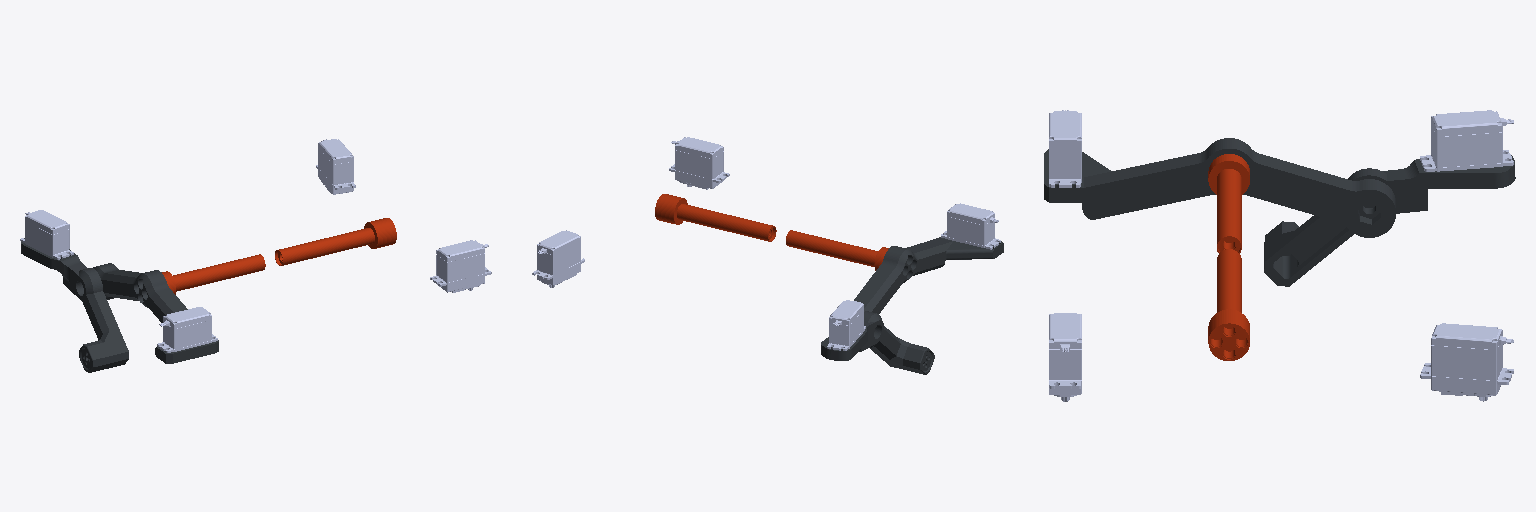
The robot description file, URDF, robot "perseverance":
<?xml version="1.0" ?>
<!-- Generated using onshape-to-robot -->
<!-- Onshape https://cad.onshape.com/documents/31ca51e87164d5a2ae3b11dc/w/1e07aa3f18f08d453ac8b6a1/e/be108145cc25fea61866c58d -->
<robot name="perseverance">
  <!-- Link base_link -->
  <link name="base_link">
    <inertial>
      <origin xyz="0.00132088 -0.0106351 0.0110544" rpy="0 0 0"/>
      <mass value="1.16655"/>
      <inertia ixx="0.00718086" ixy="-0.000191247" ixz="-9.44893e-06" iyy="0.00962338" iyz="0.000134967" izz="0.0161498"/>
    </inertial>
    <!-- Part rightbogie -->
    <visual>
      <origin xyz="-0.15 0.0418583 -0.00306575" rpy="0 -0 -1.5708"/>
      <geometry>
        <mesh filename="package://meshes/rightbogie.stl"/>
      </geometry>
      <material name="rightbogie_material">
        <color rgba="0.262745 0.282353 0.301961 1"/>
      </material>
    </visual>
    <collision>
      <origin xyz="-0.15 0.0418583 -0.00306575" rpy="0 -0 -1.5708"/>
      <geometry>
        <mesh filename="package://meshes/rightbogie.stl"/>
      </geometry>
    </collision>
    <!-- Part bevel_0_85m_18t_45deg -->
    <visual>
      <origin xyz="-0.012226 -0.042 0.024" rpy="-0 1.5708 0"/>
      <geometry>
        <mesh filename="package://meshes/bevel_0_85m_18t_45deg.stl"/>
      </geometry>
      <material name="bevel_0_85m_18t_45deg_material">
        <color rgba="0.729412 0.25098 0.105882 1"/>
      </material>
    </visual>
    <collision>
      <origin xyz="-0.012226 -0.042 0.024" rpy="-0 1.5708 0"/>
      <geometry>
        <mesh filename="package://meshes/bevel_0_85m_18t_45deg.stl"/>
      </geometry>
    </collision>
    <!-- Part base_link -->
    <visual>
      <origin xyz="0 0 0" rpy="0 -0 0"/>
      <geometry>
        <mesh filename="package://meshes/base_link.stl"/>
      </geometry>
      <material name="base_link_material">
        <color rgba="0.811765 0.858824 0.898039 1"/>
      </material>
    </visual>
    <collision>
      <origin xyz="0 0 0" rpy="0 -0 0"/>
      <geometry>
        <mesh filename="package://meshes/base_link.stl"/>
      </geometry>
    </collision>
    <!-- Part bevel_0_85m_18t_45deg_2 -->
    <visual>
      <origin xyz="0.012226 -0.042 0.024" rpy="-1.3494e-79 -1.5708 0"/>
      <geometry>
        <mesh filename="package://meshes/bevel_0_85m_18t_45deg.stl"/>
      </geometry>
      <material name="bevel_0_85m_18t_45deg_2_material">
        <color rgba="0.729412 0.25098 0.105882 1"/>
      </material>
    </visual>
    <collision>
      <origin xyz="0.012226 -0.042 0.024" rpy="-1.3494e-79 -1.5708 0"/>
      <geometry>
        <mesh filename="package://meshes/bevel_0_85m_18t_45deg.stl"/>
      </geometry>
    </collision>
    <!-- Part mg995 -->
    <visual>
      <origin xyz="-0.1425 -0.140031 0.043" rpy="3.14159 -0 -3.14159"/>
      <geometry>
        <mesh filename="package://meshes/mg995.stl"/>
      </geometry>
      <material name="mg995_material">
        <color rgba="0.792157 0.819608 0.933333 1"/>
      </material>
    </visual>
    <collision>
      <origin xyz="-0.1425 -0.140031 0.043" rpy="3.14159 -0 -3.14159"/>
      <geometry>
        <mesh filename="package://meshes/mg995.stl"/>
      </geometry>
    </collision>
    <!-- Part mg995_2 -->
    <visual>
      <origin xyz="-0.150764 0.100122 0.0432278" rpy="3.14159 -0 1.74533"/>
      <geometry>
        <mesh filename="package://meshes/mg995.stl"/>
      </geometry>
      <material name="mg995_2_material">
        <color rgba="0.792157 0.819608 0.933333 1"/>
      </material>
    </visual>
    <collision>
      <origin xyz="-0.150764 0.100122 0.0432278" rpy="3.14159 -0 1.74533"/>
      <geometry>
        <mesh filename="package://meshes/mg995.stl"/>
      </geometry>
    </collision>
    <!-- Part mg995_3 -->
    <visual>
      <origin xyz="0.1425 -0.140031 0.043" rpy="3.14159 -0 -2.01228e-16"/>
      <geometry>
        <mesh filename="package://meshes/mg995.stl"/>
      </geometry>
      <material name="mg995_3_material">
        <color rgba="0.792157 0.819608 0.933333 1"/>
      </material>
    </visual>
    <collision>
      <origin xyz="0.1425 -0.140031 0.043" rpy="3.14159 -0 -2.01228e-16"/>
      <geometry>
        <mesh filename="package://meshes/mg995.stl"/>
      </geometry>
    </collision>
    <!-- Part leftrocker -->
    <visual>
      <origin xyz="0.115 -0.042 0.024" rpy="0 -0 -1.5708"/>
      <geometry>
        <mesh filename="package://meshes/leftrocker.stl"/>
      </geometry>
      <material name="leftrocker_material">
        <color rgba="0.262745 0.282353 0.301961 1"/>
      </material>
    </visual>
    <collision>
      <origin xyz="0.115 -0.042 0.024" rpy="0 -0 -1.5708"/>
      <geometry>
        <mesh filename="package://meshes/leftrocker.stl"/>
      </geometry>
    </collision>
    <!-- Part rightrocker -->
    <visual>
      <origin xyz="-0.115 -0.042 0.024" rpy="0 -0 -1.5708"/>
      <geometry>
        <mesh filename="package://meshes/rightrocker.stl"/>
      </geometry>
      <material name="rightrocker_material">
        <color rgba="0.262745 0.282353 0.301961 1"/>
      </material>
    </visual>
    <collision>
      <origin xyz="-0.115 -0.042 0.024" rpy="0 -0 -1.5708"/>
      <geometry>
        <mesh filename="package://meshes/rightrocker.stl"/>
      </geometry>
    </collision>
    <!-- Part mg995_4 -->
    <visual>
      <origin xyz="0.150764 0.100122 0.0432278" rpy="3.14159 -0 1.39626"/>
      <geometry>
        <mesh filename="package://meshes/mg995.stl"/>
      </geometry>
      <material name="mg995_4_material">
        <color rgba="0.792157 0.819608 0.933333 1"/>
      </material>
    </visual>
    <collision>
      <origin xyz="0.150764 0.100122 0.0432278" rpy="3.14159 -0 1.39626"/>
      <geometry>
        <mesh filename="package://meshes/mg995.stl"/>
      </geometry>
    </collision>
    <!-- Part leftbogie -->
    <visual>
      <origin xyz="0.15 0.0418583 -0.00306575" rpy="0 -0 -1.5708"/>
      <geometry>
        <mesh filename="package://meshes/leftbogie.stl"/>
      </geometry>
      <material name="leftbogie_material">
        <color rgba="0.262745 0.282353 0.301961 1"/>
      </material>
    </visual>
    <collision>
      <origin xyz="0.15 0.0418583 -0.00306575" rpy="0 -0 -1.5708"/>
      <geometry>
        <mesh filename="package://meshes/leftbogie.stl"/>
      </geometry>
    </collision>
  </link>
  <!-- Link rearsteeringarm -->
  <link name="rearsteeringarm">
    <inertial>
      <origin xyz="0.0162576 1.99588e-09 -0.0222692" rpy="0 0 0"/>
      <mass value="0.0309807"/>
      <inertia ixx="1.46169e-05" ixy="-1.34476e-13" ixz="1.19558e-06" iyy="1.75736e-05" iyz="1.92805e-12" izz="5.44298e-06"/>
    </inertial>
    <!-- Part rearsteeringarm -->
    <visual>
      <origin xyz="2.77556e-17 2.77556e-17 -0.005" rpy="9.24446e-33 -2.82529e-32 -4.77087e-18"/>
      <geometry>
        <mesh filename="package://meshes/rearsteeringarm.stl"/>
      </geometry>
      <material name="rearsteeringarm_material">
        <color rgba="0.458824 0.105882 0 1"/>
      </material>
    </visual>
    <collision>
      <origin xyz="2.77556e-17 2.77556e-17 -0.005" rpy="9.24446e-33 -2.82529e-32 -4.77087e-18"/>
      <geometry>
        <mesh filename="package://meshes/rearsteeringarm.stl"/>
      </geometry>
    </collision>
  </link>
  <!-- Link wheelhub -->
  <link name="wheelhub">
    <inertial>
      <origin xyz="-3.19312e-19 3.11997e-18 0.00460287" rpy="0 0 0"/>
      <mass value="0.0820664"/>
      <inertia ixx="3.08808e-05" ixy="-3.64091e-55" ixz="-1.42616e-21" iyy="3.08808e-05" iyz="1.12352e-54" izz="5.62507e-05"/>
    </inertial>
    <!-- Part wheelhub -->
    <visual>
      <origin xyz="0 0 -0.005" rpy="-1.5708 1.35456e-17 3.31859e-65"/>
      <geometry>
        <mesh filename="package://meshes/wheelhub.stl"/>
      </geometry>
      <material name="wheelhub_material">
        <color rgba="0.498039 0.498039 0.498039 1"/>
      </material>
    </visual>
    <collision>
      <origin xyz="0 0 -0.005" rpy="-1.5708 1.35456e-17 3.31859e-65"/>
      <geometry>
        <mesh filename="package://meshes/wheelhub.stl"/>
      </geometry>
    </collision>
  </link>
  <!-- Joint from rearsteeringarm to wheelhub -->
  <joint name="bl_wheel" type="continuous">
    <origin xyz="-0.005 -5.55112e-17 -0.0463814" rpy="-1.5708 1.249e-16 -1.5708"/>
    <parent link="rearsteeringarm"/>
    <child link="wheelhub"/>
    <axis xyz="0 0 1"/>
    <limit effort="10" velocity="10"/>
  </joint>
  <!-- Joint from base_link to rearsteeringarm -->
  <joint name="bl_steering" type="revolute">
    <origin xyz="0.1525 0.10997 -0.00127218" rpy="-1.249e-16 4.18641e-16 2.96706"/>
    <parent link="base_link"/>
    <child link="rearsteeringarm"/>
    <axis xyz="0 0 1"/>
    <limit effort="10" velocity="10" lower="-0.610865" upper="0.610865"/>
  </joint>
  <!-- Link rearsteeringarm_2 -->
  <link name="rearsteeringarm_2">
    <inertial>
      <origin xyz="0.0162576 1.99588e-09 -0.0222692" rpy="0 0 0"/>
      <mass value="0.0309807"/>
      <inertia ixx="1.46169e-05" ixy="-1.34476e-13" ixz="1.19558e-06" iyy="1.75736e-05" iyz="1.92805e-12" izz="5.44298e-06"/>
    </inertial>
    <!-- Part rearsteeringarm_2 -->
    <visual>
      <origin xyz="2.77556e-17 2.77556e-17 -0.005" rpy="-8.84344e-75 -0 -7.75341e-18"/>
      <geometry>
        <mesh filename="package://meshes/rearsteeringarm.stl"/>
      </geometry>
      <material name="rearsteeringarm_2_material">
        <color rgba="0.458824 0.105882 0 1"/>
      </material>
    </visual>
    <collision>
      <origin xyz="2.77556e-17 2.77556e-17 -0.005" rpy="-8.84344e-75 -0 -7.75341e-18"/>
      <geometry>
        <mesh filename="package://meshes/rearsteeringarm.stl"/>
      </geometry>
    </collision>
  </link>
  <!-- Link wheelhub_2 -->
  <link name="wheelhub_2">
    <inertial>
      <origin xyz="2.74897e-17 3.11997e-18 0.00460287" rpy="0 0 0"/>
      <mass value="0.0820664"/>
      <inertia ixx="3.08808e-05" ixy="3.5356e-93" ixz="-7.5456e-22" iyy="3.08808e-05" iyz="5.5184e-80" izz="5.62507e-05"/>
    </inertial>
    <!-- Part wheelhub_2 -->
    <visual>
      <origin xyz="2.77556e-17 0 -0.005" rpy="-1.5708 1.93111e-18 9.91647e-75"/>
      <geometry>
        <mesh filename="package://meshes/wheelhub.stl"/>
      </geometry>
      <material name="wheelhub_2_material">
        <color rgba="0.498039 0.498039 0.498039 1"/>
      </material>
    </visual>
    <collision>
      <origin xyz="2.77556e-17 0 -0.005" rpy="-1.5708 1.93111e-18 9.91647e-75"/>
      <geometry>
        <mesh filename="package://meshes/wheelhub.stl"/>
      </geometry>
    </collision>
  </link>
  <!-- Joint from rearsteeringarm_2 to wheelhub_2 -->
  <joint name="br_wheel" type="continuous">
    <origin xyz="-0.005 5.55112e-17 -0.0463814" rpy="1.5708 -0 1.5708"/>
    <parent link="rearsteeringarm_2"/>
    <child link="wheelhub_2"/>
    <axis xyz="0 0 1"/>
    <limit effort="10" velocity="10"/>
  </joint>
  <!-- Joint from base_link to rearsteeringarm_2 -->
  <joint name="br_steering" type="revolute">
    <origin xyz="-0.1525 0.10997 -0.00127218" rpy="4.22436e-59 -1.37735e-59 0.174533"/>
    <parent link="base_link"/>
    <child link="rearsteeringarm_2"/>
    <axis xyz="0 0 1"/>
    <limit effort="10" velocity="10" lower="-0.610865" upper="0.610865"/>
  </joint>
  <!-- Link frontsteeringarm -->
  <link name="frontsteeringarm">
    <inertial>
      <origin xyz="0.0160954 1.24761e-09 -0.0207225" rpy="0 0 0"/>
      <mass value="0.0305721"/>
      <inertia ixx="1.28485e-05" ixy="-1.54012e-13" ixz="1.11198e-06" iyy="1.57606e-05" iyz="1.84212e-12" izz="5.35874e-06"/>
    </inertial>
    <!-- Part frontsteeringarm -->
    <visual>
      <origin xyz="0 0 -0.005" rpy="0 -0 9.24446e-33"/>
      <geometry>
        <mesh filename="package://meshes/frontsteeringarm.stl"/>
      </geometry>
      <material name="frontsteeringarm_material">
        <color rgba="0.458824 0.105882 0 1"/>
      </material>
    </visual>
    <collision>
      <origin xyz="0 0 -0.005" rpy="0 -0 9.24446e-33"/>
      <geometry>
        <mesh filename="package://meshes/frontsteeringarm.stl"/>
      </geometry>
    </collision>
  </link>
  <!-- Link wheelhub_3 -->
  <link name="wheelhub_3">
    <inertial>
      <origin xyz="-1.47254e-19 3.11997e-18 0.00460287" rpy="0 0 0"/>
      <mass value="0.0820664"/>
      <inertia ixx="3.08808e-05" ixy="0" ixz="-5.47239e-37" iyy="3.08808e-05" iyz="0" izz="5.62507e-05"/>
    </inertial>
    <!-- Part wheelhub_3 -->
    <visual>
      <origin xyz="0 0 -0.005" rpy="-1.5708 -2.15704e-32 0"/>
      <geometry>
        <mesh filename="package://meshes/wheelhub.stl"/>
      </geometry>
      <material name="wheelhub_3_material">
        <color rgba="0.498039 0.498039 0.498039 1"/>
      </material>
    </visual>
    <collision>
      <origin xyz="0 0 -0.005" rpy="-1.5708 -2.15704e-32 0"/>
      <geometry>
        <mesh filename="package://meshes/wheelhub.stl"/>
      </geometry>
    </collision>
  </link>
  <!-- Joint from frontsteeringarm to wheelhub_3 -->
  <joint name="fl_wheel" type="continuous">
    <origin xyz="-0.005 -2.77556e-17 -0.0433189" rpy="-1.5708 -0 -1.5708"/>
    <parent link="frontsteeringarm"/>
    <child link="wheelhub_3"/>
    <axis xyz="0 0 1"/>
    <limit effort="10" velocity="10"/>
  </joint>
  <!-- Joint from base_link to frontsteeringarm -->
  <joint name="fl_steering" type="revolute">
    <origin xyz="0.1525 -0.140031 -0.0015" rpy="0 -0 3.14159"/>
    <parent link="base_link"/>
    <child link="frontsteeringarm"/>
    <axis xyz="0 0 1"/>
    <limit effort="10" velocity="10" lower="-0.610865" upper="0.610865"/>
  </joint>
  <!-- Link frontsteeringarm_2 -->
  <link name="frontsteeringarm_2">
    <inertial>
      <origin xyz="-0.0160954 -1.24761e-09 -0.0207225" rpy="0 0 0"/>
      <mass value="0.0305721"/>
      <inertia ixx="1.28485e-05" ixy="-1.54012e-13" ixz="-1.11198e-06" iyy="1.57606e-05" iyz="-1.84212e-12" izz="5.35874e-06"/>
    </inertial>
    <!-- Part frontsteeringarm_2 -->
    <visual>
      <origin xyz="0 2.77556e-17 -0.005" rpy="0 -0 3.14159"/>
      <geometry>
        <mesh filename="package://meshes/frontsteeringarm.stl"/>
      </geometry>
      <material name="frontsteeringarm_2_material">
        <color rgba="0.458824 0.105882 0 1"/>
      </material>
    </visual>
    <collision>
      <origin xyz="0 2.77556e-17 -0.005" rpy="0 -0 3.14159"/>
      <geometry>
        <mesh filename="package://meshes/frontsteeringarm.stl"/>
      </geometry>
    </collision>
  </link>
  <!-- Link wheelhub_4 -->
  <link name="wheelhub_4">
    <inertial>
      <origin xyz="-1.47254e-19 3.11997e-18 0.00460287" rpy="0 0 0"/>
      <mass value="0.0820664"/>
      <inertia ixx="3.08808e-05" ixy="1.05339e-100" ixz="-2.68495e-37" iyy="3.08808e-05" iyz="-3.41845e-68" izz="5.62507e-05"/>
    </inertial>
    <!-- Part wheelhub_4 -->
    <visual>
      <origin xyz="0 0 -0.005" rpy="-1.5708 3.08149e-33 0"/>
      <geometry>
        <mesh filename="package://meshes/wheelhub.stl"/>
      </geometry>
      <material name="wheelhub_4_material">
        <color rgba="0.498039 0.498039 0.498039 1"/>
      </material>
    </visual>
    <collision>
      <origin xyz="0 0 -0.005" rpy="-1.5708 3.08149e-33 0"/>
      <geometry>
        <mesh filename="package://meshes/wheelhub.stl"/>
      </geometry>
    </collision>
  </link>
  <!-- Joint from frontsteeringarm_2 to wheelhub_4 -->
  <joint name="fr_wheel" type="continuous">
    <origin xyz="0.005 2.77556e-17 -0.0433189" rpy="1.5708 3.93984e-31 -1.5708"/>
    <parent link="frontsteeringarm_2"/>
    <child link="wheelhub_4"/>
    <axis xyz="0 0 1"/>
    <limit effort="10" velocity="10"/>
  </joint>
  <!-- Joint from base_link to frontsteeringarm_2 -->
  <joint name="fr_steering" type="revolute">
    <origin xyz="-0.1525 -0.140031 -0.0015" rpy="0 -0 -3.14159"/>
    <parent link="base_link"/>
    <child link="frontsteeringarm_2"/>
    <axis xyz="0 0 1"/>
    <limit effort="10" velocity="10" lower="-0.610865" upper="0.610865"/>
  </joint>
  <!-- Link wheelhub_5 -->
  <link name="wheelhub_5">
    <inertial>
      <origin xyz="-1.47254e-19 3.11997e-18 0.00460287" rpy="0 0 0"/>
      <mass value="0.0820664"/>
      <inertia ixx="3.08808e-05" ixy="0" ixz="6.18563e-36" iyy="3.08808e-05" iyz="0" izz="5.62507e-05"/>
    </inertial>
    <!-- Part wheelhub_5 -->
    <visual>
      <origin xyz="0 0 -0.005" rpy="-1.5708 -4.31408e-32 0"/>
      <geometry>
        <mesh filename="package://meshes/wheelhub.stl"/>
      </geometry>
      <material name="wheelhub_5_material">
        <color rgba="0.498039 0.498039 0.498039 1"/>
      </material>
    </visual>
    <collision>
      <origin xyz="0 0 -0.005" rpy="-1.5708 -4.31408e-32 0"/>
      <geometry>
        <mesh filename="package://meshes/wheelhub.stl"/>
      </geometry>
    </collision>
  </link>
  <!-- Joint from base_link to wheelhub_5 -->
  <joint name="mr_wheel" type="continuous">
    <origin xyz="-0.177 -0.00814152 -0.0476535" rpy="1.5708 -0 1.5708"/>
    <parent link="base_link"/>
    <child link="wheelhub_5"/>
    <axis xyz="0 0 1"/>
    <limit effort="10" velocity="10"/>
  </joint>
  <!-- Link wheelhub_6 -->
  <link name="wheelhub_6">
    <inertial>
      <origin xyz="1.22488e-17 -3.81892e-18 -0.000397125" rpy="0 0 0"/>
      <mass value="0.0820664"/>
      <inertia ixx="3.08808e-05" ixy="0" ixz="9.67354e-20" iyy="3.08808e-05" iyz="0" izz="5.62507e-05"/>
    </inertial>
    <!-- Part wheelhub_6 -->
    <visual>
      <origin xyz="1.73472e-18 -6.93889e-18 -0.01" rpy="-1.5708 -1.11022e-15 0"/>
      <geometry>
        <mesh filename="package://meshes/wheelhub.stl"/>
      </geometry>
      <material name="wheelhub_6_material">
        <color rgba="0.498039 0.498039 0.498039 1"/>
      </material>
    </visual>
    <collision>
      <origin xyz="1.73472e-18 -6.93889e-18 -0.01" rpy="-1.5708 -1.11022e-15 0"/>
      <geometry>
        <mesh filename="package://meshes/wheelhub.stl"/>
      </geometry>
    </collision>
  </link>
  <!-- Joint from base_link to wheelhub_6 -->
  <joint name="ml_wheel" type="continuous">
    <origin xyz="0.172 -0.00814152 -0.0476535" rpy="1.5708 -0 -1.5708"/>
    <parent link="base_link"/>
    <child link="wheelhub_6"/>
    <axis xyz="0 0 1"/>
    <limit effort="10" velocity="10"/>
  </joint>
</robot>

--- Render facts (derived) ---
3 views of the same robot in one strip: view 1: azimuth 30°, elevation 25°; view 2: azimuth 150°, elevation 25°; view 3: azimuth 270°, elevation 25° (orthographic).
Robot: perseverance — 11 links, 10 joints (4 revolute, 6 continuous); root link base_link; default pose: every joint at zero.
Visible links, largest first — view 1: base_link; view 2: base_link; view 3: base_link.
Boxes of the visible links, box(x1,y1,x2,y2) form: base_link: box(20, 139, 491, 372); base_link: box(532, 137, 1003, 374); base_link: box(1044, 110, 1515, 401).
Size in the robot's own frame: 0.344 by 0.2817 by 0.1038 metres.
8 mesh visuals loaded from 10 distinct referenced files (4 binary STL); not drawn: 13 (reference not matched to a file when rendering).